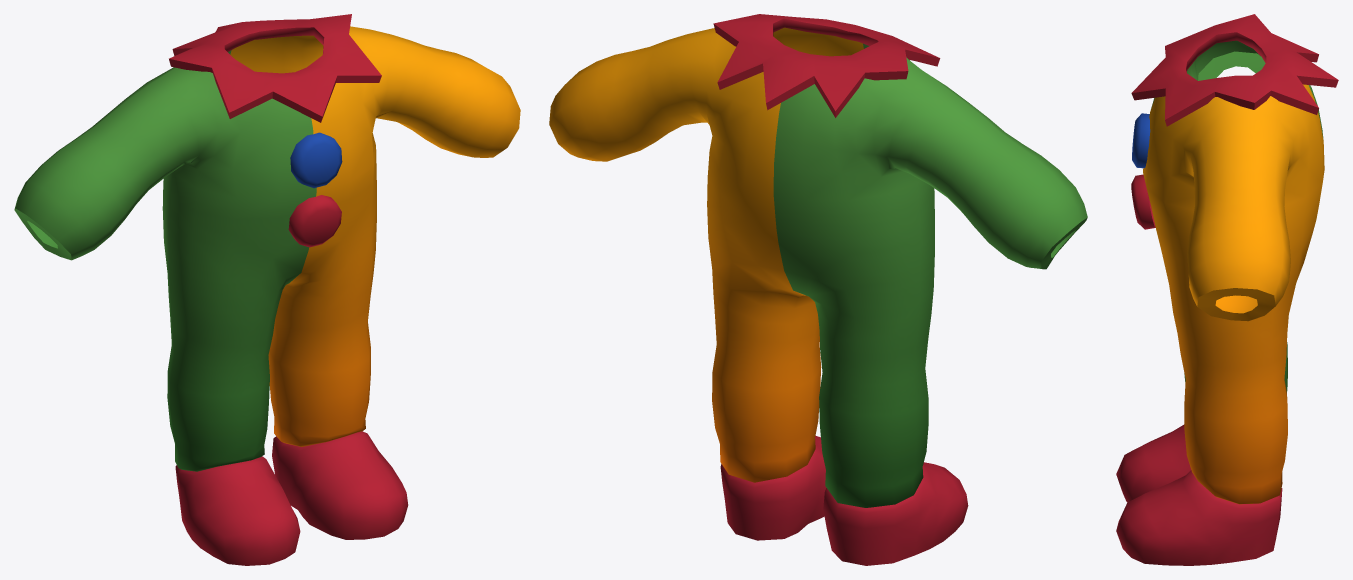
File: Costume_8_01.glb
3 views of the same model, side by side, from view 1: azimuth 30°, elevation 25°; view 2: azimuth 150°, elevation 25°; view 3: azimuth 270°, elevation 25° (orthographic). The views are drawn at different scales.
Visible parts, largest first — view 1: Costume_8_01; view 2: Costume_8_01; view 3: Costume_8_01.
Boxes of the visible parts, left/top/right/bottom form: Costume_8_01: left=14, top=14, right=520, bottom=565; Costume_8_01: left=549, top=14, right=1087, bottom=565; Costume_8_01: left=1116, top=14, right=1338, bottom=565.
Bounding box in the file's own units: 0.6504 × 0.6 × 0.2588.
1 material, 1 textured.
